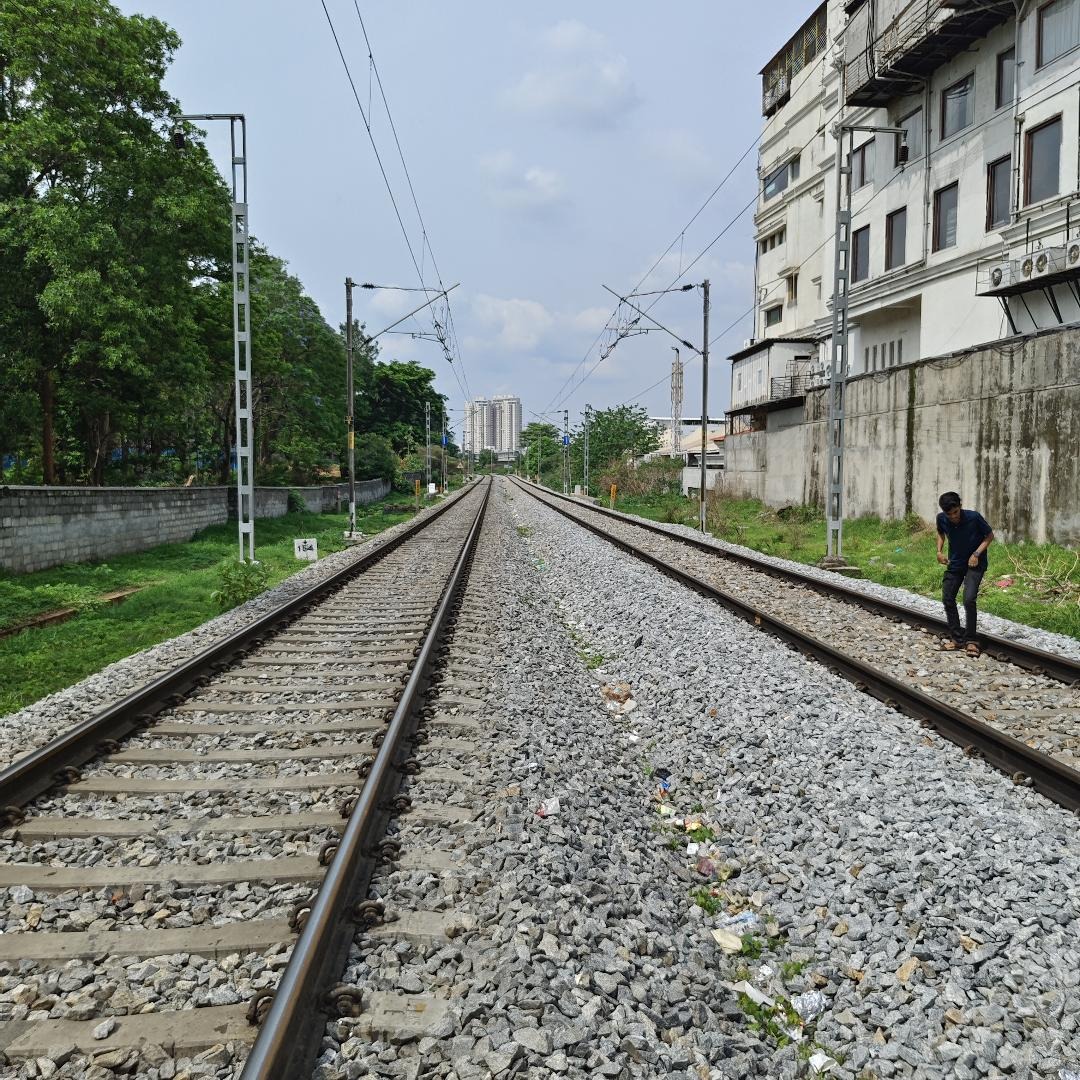standing: (914, 479, 1001, 664)
track: (0, 471, 503, 1080), (515, 478, 1080, 843)
